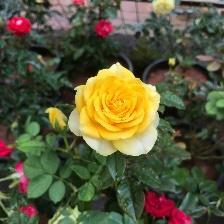rose: (73, 62, 164, 159)
